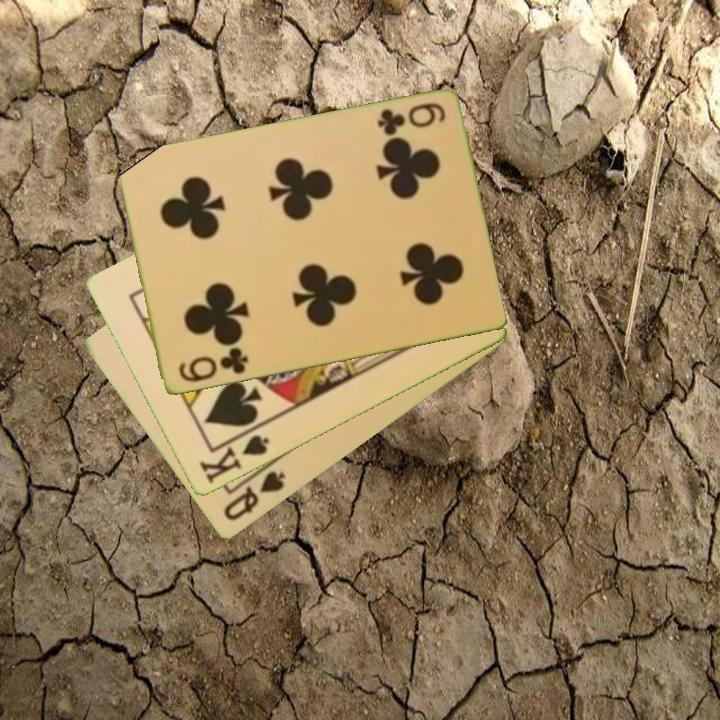6c: (174, 344, 251, 386), (373, 99, 448, 139)
Ks: (195, 423, 272, 487)
Qs: (220, 467, 289, 525)
